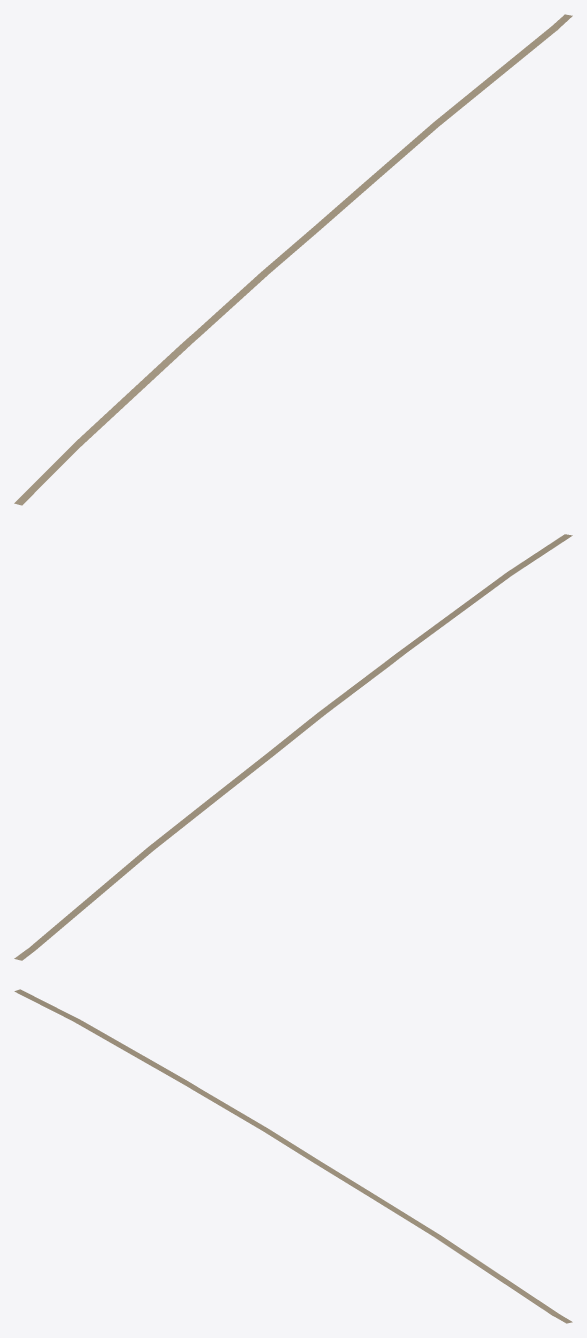
The model's file is farm_22_19_track.glb.
3 renders of one model, top to bottom at view 1: azimuth 30°, elevation 25°; view 2: azimuth 210°, elevation 25°; view 3: azimuth 270°, elevation 25°, orthographic. The views are drawn at different scales.
Visible parts, largest first — view 1: geometry_0; view 2: geometry_0; view 3: geometry_0.
Part boxes in pixels (x1,y1,x2,y2): geometry_0: [14, 14, 572, 505]; geometry_0: [14, 534, 572, 960]; geometry_0: [14, 989, 572, 1323].
Bounding box in the file's own units: 371 × 13.29 × 242.
